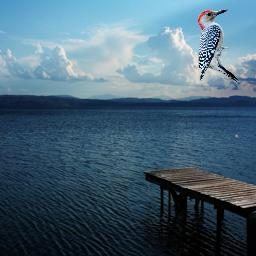Woodpecker: (194, 6, 243, 88)
